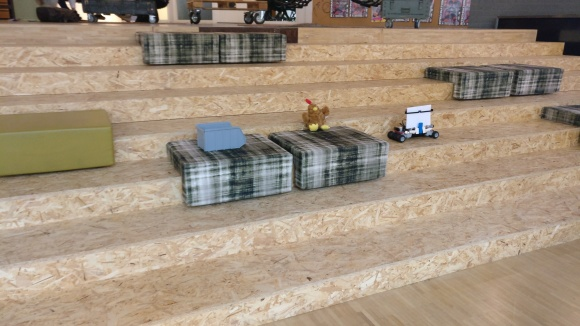car: (387, 105, 439, 142)
chicken: (302, 96, 332, 132)
tray: (194, 120, 247, 152)
